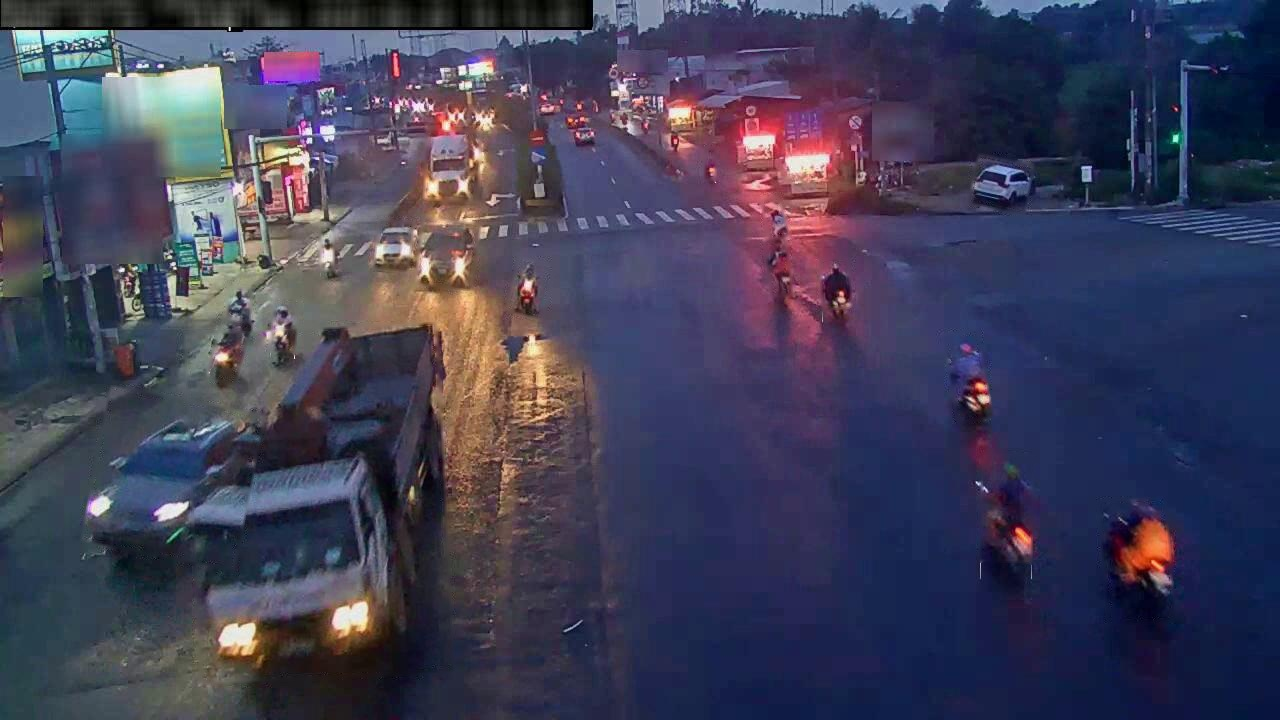Car: (189, 457, 411, 663), (321, 325, 443, 520), (85, 419, 247, 559), (418, 227, 474, 287), (972, 165, 1033, 206), (373, 227, 418, 266), (574, 127, 595, 146), (566, 113, 589, 130)
Motorcycle: (1102, 502, 1175, 613), (501, 332, 541, 363), (212, 344, 240, 387)
Motorcyclist: (978, 464, 1035, 582), (949, 343, 991, 423), (822, 264, 853, 321), (269, 306, 296, 365), (768, 240, 791, 297), (515, 263, 538, 314), (227, 289, 251, 332), (766, 204, 788, 240), (321, 235, 336, 278), (703, 146, 716, 184)
Pedestrian: (326, 328, 357, 375)
Traffic light: (389, 50, 400, 78)
Truck: (424, 134, 474, 204)
